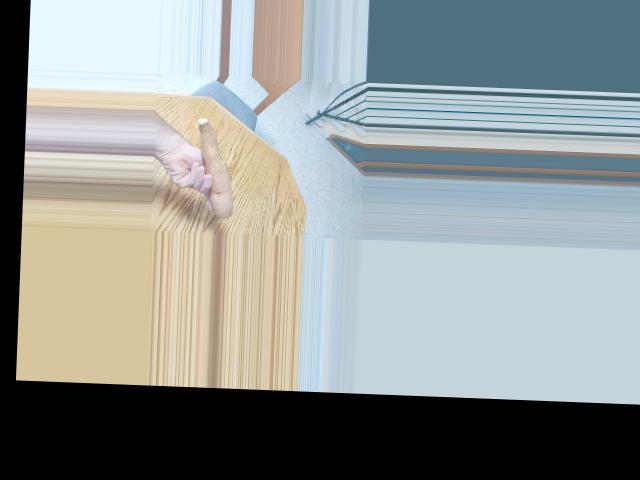sweet_potato: (190, 116, 237, 219)
